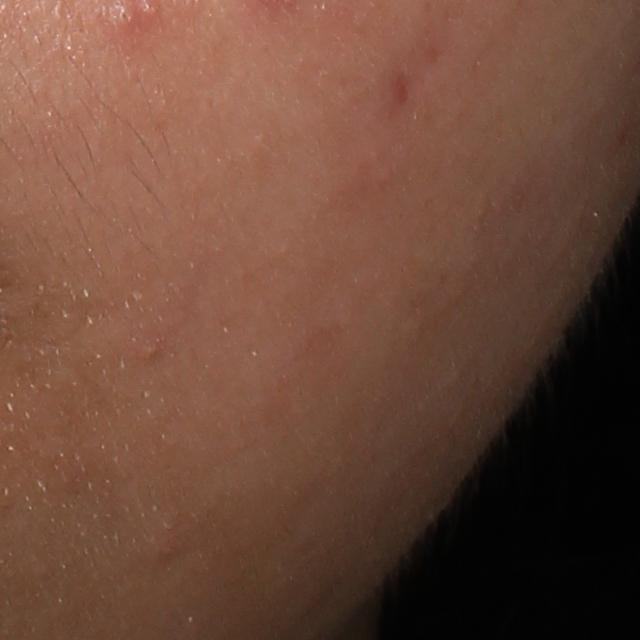comedo: (135, 337, 163, 363)
